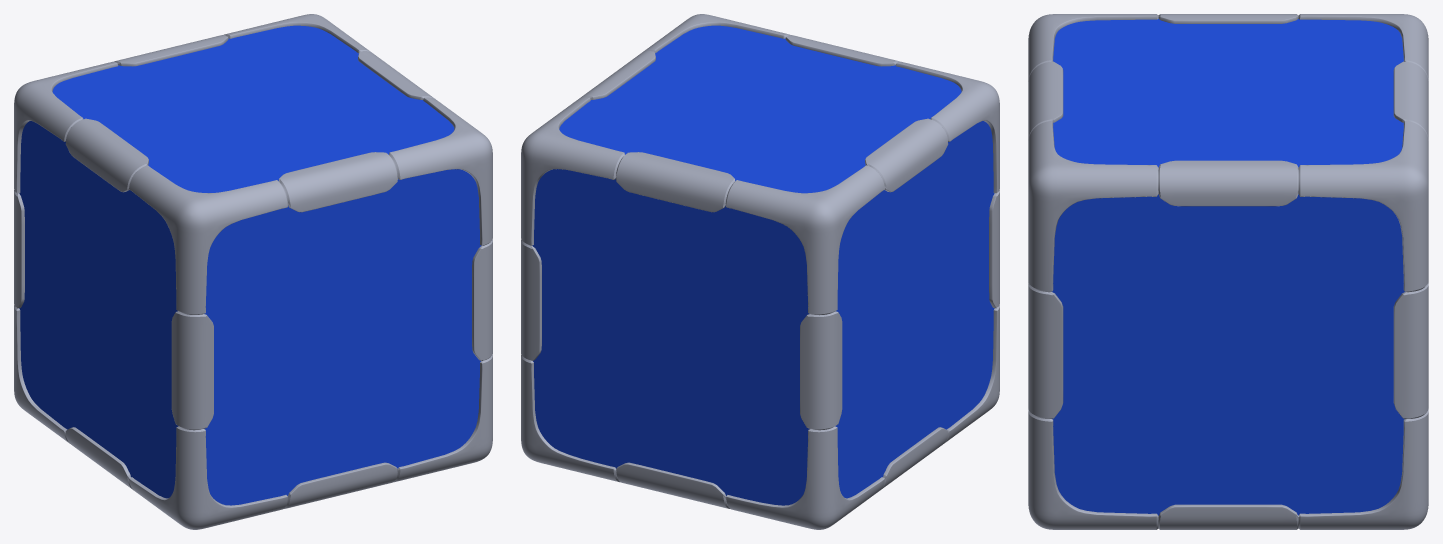
Rendered from Detail_Cube.fbx.
3 renders of one model, left to right at view 1: azimuth 30°, elevation 25°; view 2: azimuth 150°, elevation 25°; view 3: azimuth 270°, elevation 25°, orthographic. The views are drawn at different scales.
Parts seen in each view (by area): view 1: Detail_Cube; view 2: Detail_Cube; view 3: Detail_Cube.
Boxes of the visible parts, box(x1,y1,x2,y2) form: Detail_Cube: box(14, 14, 492, 529); Detail_Cube: box(521, 14, 999, 529); Detail_Cube: box(1028, 14, 1428, 529).
Size of the model in its own units: 150 by 150 by 150.
Materials: 1 (1 with a texture image).
